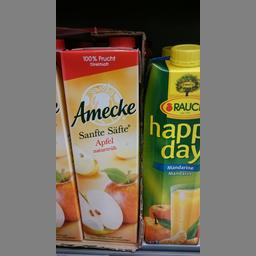juice: (60, 37, 138, 240), (142, 44, 199, 246)
